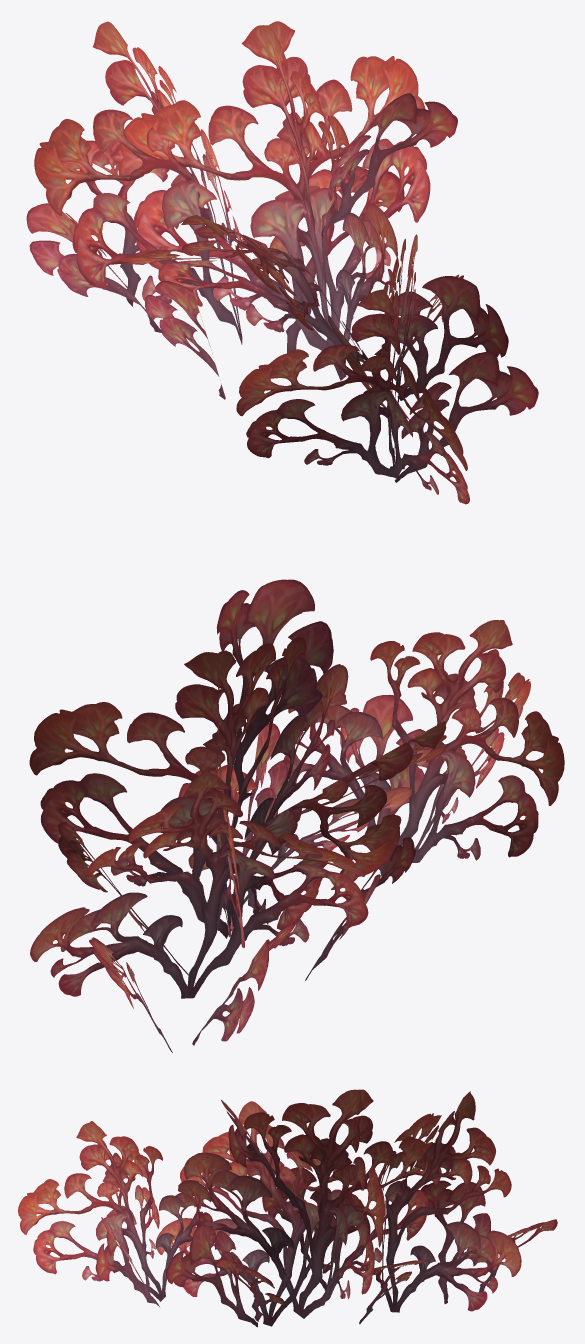
File: bush.obj
3 views of the same model, one above another, from view 1: azimuth 30°, elevation 25°; view 2: azimuth 150°, elevation 25°; view 3: azimuth 270°, elevation 25° (orthographic). The views are drawn at different scales.
Parts seen in each view (by area): view 1: world/expansion08/doodads/maldraxxus/9mal_bush_b02.m2_Geoset_000; view 2: world/expansion08/doodads/maldraxxus/9mal_bush_b02.m2_Geoset_000; view 3: world/expansion08/doodads/maldraxxus/9mal_bush_b02.m2_Geoset_000.
Boxes of the visible parts, bbox=[...] form: world/expansion08/doodads/maldraxxus/9mal_bush_b02.m2_Geoset_000: bbox=[26, 21, 538, 504]; world/expansion08/doodads/maldraxxus/9mal_bush_b02.m2_Geoset_000: bbox=[29, 579, 564, 1052]; world/expansion08/doodads/maldraxxus/9mal_bush_b02.m2_Geoset_000: bbox=[18, 1089, 557, 1327].
Bounding box in the file's own units: 3.06 × 2.81 × 5.75.
Materials: 1 (1 with a texture image).
